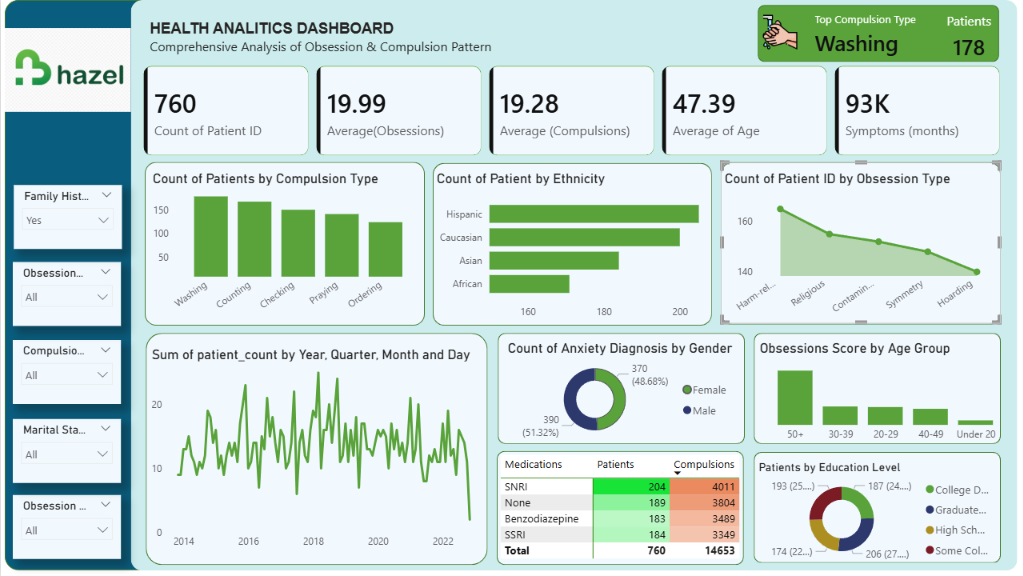

What the dashboard file says about the page in this screenshot:
{"tool":"powerbi","page":{"name":"Page 1","canvas":[1280,720],"ordinal":0},"visuals":[{"type":"group","id":"g1","title":"Group 1","box":[4.5,0,1265.6,713],"z":0},{"type":"shape","box":[181.3,416,427.3,290],"z":0,"group":"g4"},{"type":"shape","box":[4.5,0.3,348.2,712.7],"z":1000,"group":"g1"},{"type":"shape","box":[941.2,416.2,308.8,138.8],"z":1000},{"type":"lineChart","fields":{"Y":["Sum(Diagnostic_MOM.patient_count)"],"Category":["Diagnostic_MOM.month.Variation.Date Hierarchy.Year","Diagnostic_MOM.month.Variation.Date Hierarchy.Month","Diagnostic_MOM.month.Variation.Date Hierarchy.Day"]},"box":[184,432.1,420.7,263.1],"z":1000,"group":"g4"},{"type":"shape","box":[162.2,0,1108.3,713.3],"z":2000,"group":"g1"},{"type":"textbox","box":[181.7,20,458.3,56.7],"z":2000},{"type":"cardVisual","fields":{"Data":["CountNonNull(ocd_patient_dataset.Patient ID)","Avg(ocd_patient_dataset.Y-BOCS Score (Obsessions))","Avg(ocd_patient_dataset.Y-BOCS Score (Compulsions))","Avg(ocd_patient_dataset.Age)","ocd_patient_dataset.Avg Symptom Duration"]},"box":[174,77,1084,122],"z":3000},{"type":"shape","box":[180.6,202.6,350,204.5],"z":3000,"group":"g3"},{"type":"clusteredColumnChart","fields":{"Category":["ocd_patient_dataset.Compulsion Type"],"Y":["CountNonNull(ocd_patient_dataset.Patient ID)"]},"box":[185.1,212.6,345.5,194.5],"z":4000,"group":"g3"},{"type":"shape","box":[621.2,416.2,308.8,138.8],"z":4000,"group":"g6"},{"type":"shape","box":[941.2,565,308.8,138.8],"z":4000,"group":"g7"},{"type":"shape","box":[900,202.2,350,203.3],"z":5000,"group":"g5"},{"type":"group","id":"g2","title":"Group 3","box":[181.3,416,427.3,290],"z":5000},{"type":"shape","box":[540.5,203.5,348.9,203.3],"z":6000},{"type":"areaChart","fields":{"Category":["ocd_patient_dataset.Obsession Type"],"Y":["CountNonNull(ocd_patient_dataset.Patient ID)"]},"box":[900,212.2,350,191.7],"z":6000,"group":"g5"},{"type":"donutChart","fields":{"Series":["ocd_patient_dataset.Gender"],"Y":["CountNonNull(ocd_patient_dataset.Anxiety Diagnosis)"]},"box":[628.7,425,293,129.4],"z":6000,"group":"g6"},{"type":"shape","box":[620.4,563.8,308.8,142.5],"z":7000},{"type":"group","id":"g3","title":"Group 4","box":[180.6,202.6,350,204.5],"z":8000},{"type":"clusteredBarChart","fields":{"Category":["ocd_patient_dataset.Ethnicity"],"Y":["CountNonNull(ocd_patient_dataset.Patient ID)"]},"box":[539.4,213,347.8,195.6],"z":9000},{"type":"group","id":"g4","title":"Group 7","box":[181.3,416,427.3,290],"z":9001,"group":"g2"},{"type":"group","id":"g5","title":"Group 5","box":[900,202.2,350,203.3],"z":10000},{"type":"pivotTable","fields":{"Rows":["ocd_patient_dataset.Medications"],"Values":["CountNonNull(ocd_patient_dataset.Patient ID)","Sum(ocd_patient_dataset.Y-BOCS Score (Compulsions))"]},"box":[620.1,563.4,308.8,154.4],"z":11000},{"type":"group","id":"g6","title":"Group 6","box":[621.2,416.2,308.8,138.8],"z":12000},{"type":"columnChart","fields":{"Category":["ocd_patient_dataset.Age Group"],"Y":["CountNonNull(ocd_patient_dataset.Y-BOCS Score (Obsessions))"]},"box":[943.4,424.7,325.7,136.3],"z":13000},{"type":"group","id":"g7","title":"Group 6","box":[941.2,565,308.8,138.8],"z":14000},{"type":"donutChart","fields":{"Y":["CountNonNull(ocd_patient_dataset.Patient ID)"],"Series":["ocd_patient_dataset.Education Level"]},"box":[942.5,575,307.5,131.2],"z":15000},{"type":"shape","box":[945.8,6,301.6,71.2],"z":16000},{"type":"cardVisual","fields":{"Data":["ocd_patient_dataset.Top Compulsion Type"]},"box":[1012.2,9.7,267.8,65.1],"z":17000},{"type":"image","box":[953.1,2.4,43.4,74.8],"z":18000},{"type":"image","box":[4.5,26.4,157.3,121.8],"z":19000},{"type":"slicer","fields":{"Values":["ocd_patient_dataset.Obsession Type"]},"box":[14.5,618.9,135.1,79.6],"z":20000},{"type":"slicer","fields":{"Values":["ocd_patient_dataset.Marital Status"]},"box":[15,523.8,135,80],"z":21000},{"type":"slicer","fields":{"Values":["ocd_patient_dataset.Y-BOCS Score (Compulsions)"]},"box":[15,425,135,80],"z":22000},{"type":"slicer","fields":{"Values":["ocd_patient_dataset.Y-BOCS Score (Obsessions)"]},"box":[15,327.5,135,80],"z":23000},{"type":"slicer","fields":{"Values":["ocd_patient_dataset.Family History of OCD"]},"box":[16.2,231.2,135,80],"z":24000}]}

Visuals, with their boxes in screenshot pixels (x1, y1, x2, y2), scaled from the page's 1280x720 canvas onto the 1023x576 screenshot:
"Group 1" group: x1=4, y1=0, x2=1015, y2=570
shape: x1=145, y1=333, x2=486, y2=565
shape: x1=4, y1=0, x2=282, y2=570
shape: x1=752, y1=333, x2=999, y2=444
lineChart - Sum(Diagnostic_MOM.patient_count) x Diagnostic_MOM.month.Variation.Date Hierarchy.Year: x1=147, y1=346, x2=483, y2=556
shape: x1=130, y1=0, x2=1015, y2=571
textbox: x1=145, y1=16, x2=512, y2=61
cardVisual - CountNonNull(ocd_patient_dataset.Patient ID) x Avg(ocd_patient_dataset.Y-BOCS Score (Obsessions)): x1=139, y1=62, x2=1005, y2=159
shape: x1=144, y1=162, x2=424, y2=326
clusteredColumnChart - ocd_patient_dataset.Compulsion Type x CountNonNull(ocd_patient_dataset.Patient ID): x1=148, y1=170, x2=424, y2=326
shape: x1=496, y1=333, x2=743, y2=444
shape: x1=752, y1=452, x2=999, y2=563
shape: x1=719, y1=162, x2=999, y2=324
"Group 3" group: x1=145, y1=333, x2=486, y2=565
shape: x1=432, y1=163, x2=711, y2=325
areaChart - ocd_patient_dataset.Obsession Type x CountNonNull(ocd_patient_dataset.Patient ID): x1=719, y1=170, x2=999, y2=323
donutChart - ocd_patient_dataset.Gender x CountNonNull(ocd_patient_dataset.Anxiety Diagnosis): x1=502, y1=340, x2=737, y2=444
shape: x1=496, y1=451, x2=743, y2=565
"Group 4" group: x1=144, y1=162, x2=424, y2=326
clusteredBarChart - ocd_patient_dataset.Ethnicity x CountNonNull(ocd_patient_dataset.Patient ID): x1=431, y1=170, x2=709, y2=327
"Group 7" group: x1=145, y1=333, x2=486, y2=565
"Group 5" group: x1=719, y1=162, x2=999, y2=324
pivotTable - ocd_patient_dataset.Medications x CountNonNull(ocd_patient_dataset.Patient ID): x1=496, y1=451, x2=742, y2=574
"Group 6" group: x1=496, y1=333, x2=743, y2=444
columnChart - ocd_patient_dataset.Age Group x CountNonNull(ocd_patient_dataset.Y-BOCS Score (Obsessions)): x1=754, y1=340, x2=1014, y2=449
"Group 6" group: x1=752, y1=452, x2=999, y2=563
donutChart - CountNonNull(ocd_patient_dataset.Patient ID) x ocd_patient_dataset.Education Level: x1=753, y1=460, x2=999, y2=565
shape: x1=756, y1=5, x2=997, y2=62
cardVisual - ocd_patient_dataset.Top Compulsion Type: x1=809, y1=8, x2=1022, y2=60
image: x1=762, y1=2, x2=796, y2=62
image: x1=4, y1=21, x2=129, y2=119
slicer - ocd_patient_dataset.Obsession Type: x1=12, y1=495, x2=120, y2=559
slicer - ocd_patient_dataset.Marital Status: x1=12, y1=419, x2=120, y2=483
slicer - ocd_patient_dataset.Y-BOCS Score (Compulsions): x1=12, y1=340, x2=120, y2=404
slicer - ocd_patient_dataset.Y-BOCS Score (Obsessions): x1=12, y1=262, x2=120, y2=326
slicer - ocd_patient_dataset.Family History of OCD: x1=13, y1=185, x2=121, y2=249
